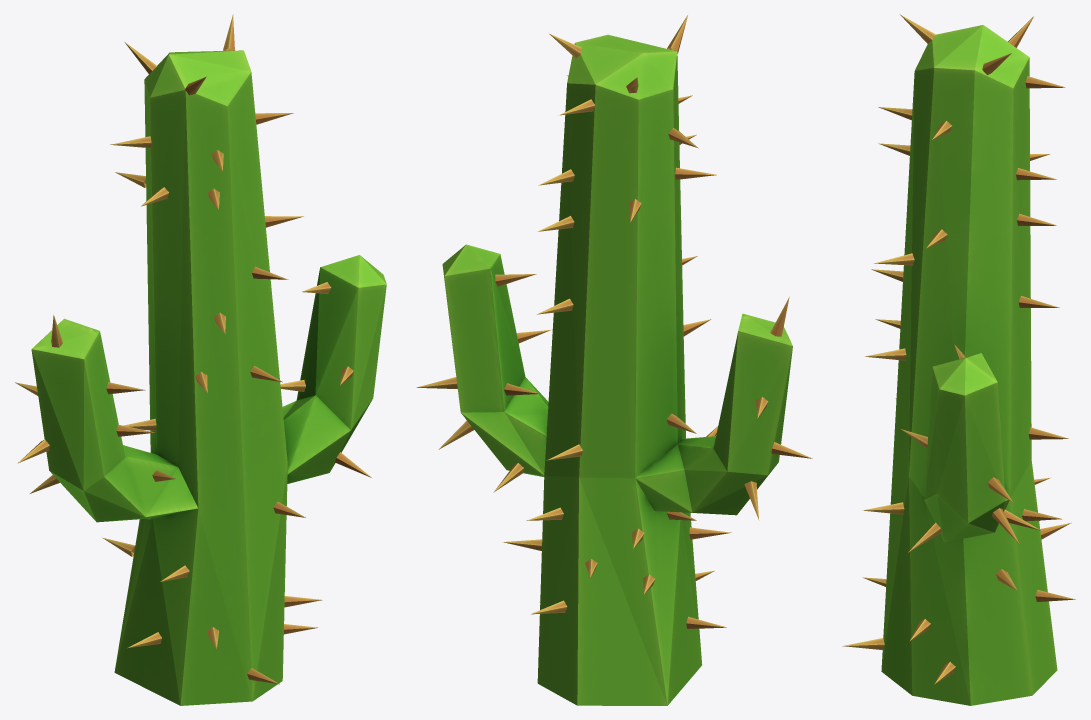
The model's file is Cactus_33.fbx.
3 views of the same model, side by side, from view 1: azimuth 30°, elevation 25°; view 2: azimuth 150°, elevation 25°; view 3: azimuth 270°, elevation 25° (orthographic).
Visible parts, largest first — view 1: Cactus_33; view 2: Cactus_33; view 3: Cactus_33.
Boxes of the visible parts, x1,y1,x2,y2 form: Cactus_33: (15,14,386,705); Cactus_33: (416,15,812,705); Cactus_33: (842,14,1075,705).
Size of the model in its own units: 37.8 by 20.5 by 61.98.
1 material, 1 textured.
